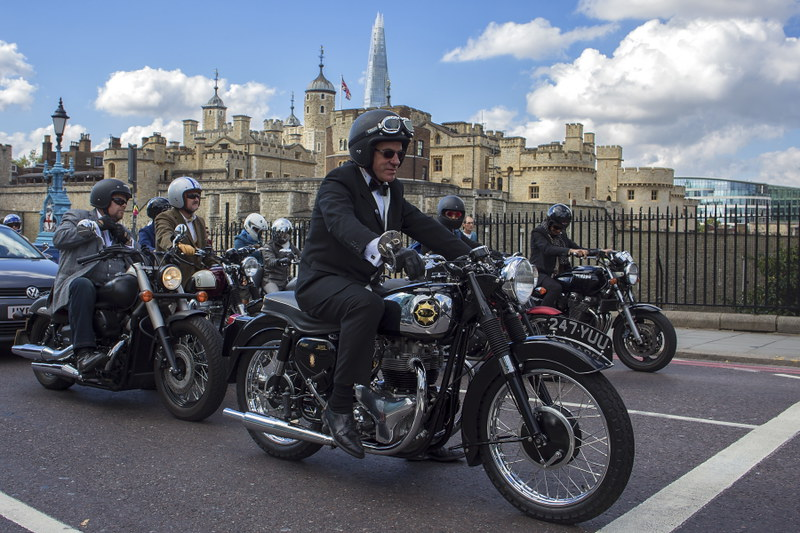helmet: (351, 101, 406, 156), (84, 176, 127, 207), (168, 178, 198, 211), (544, 204, 575, 226)
